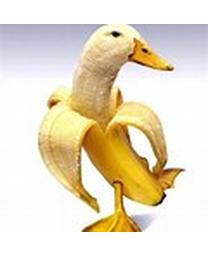banana: (41, 24, 182, 234)
